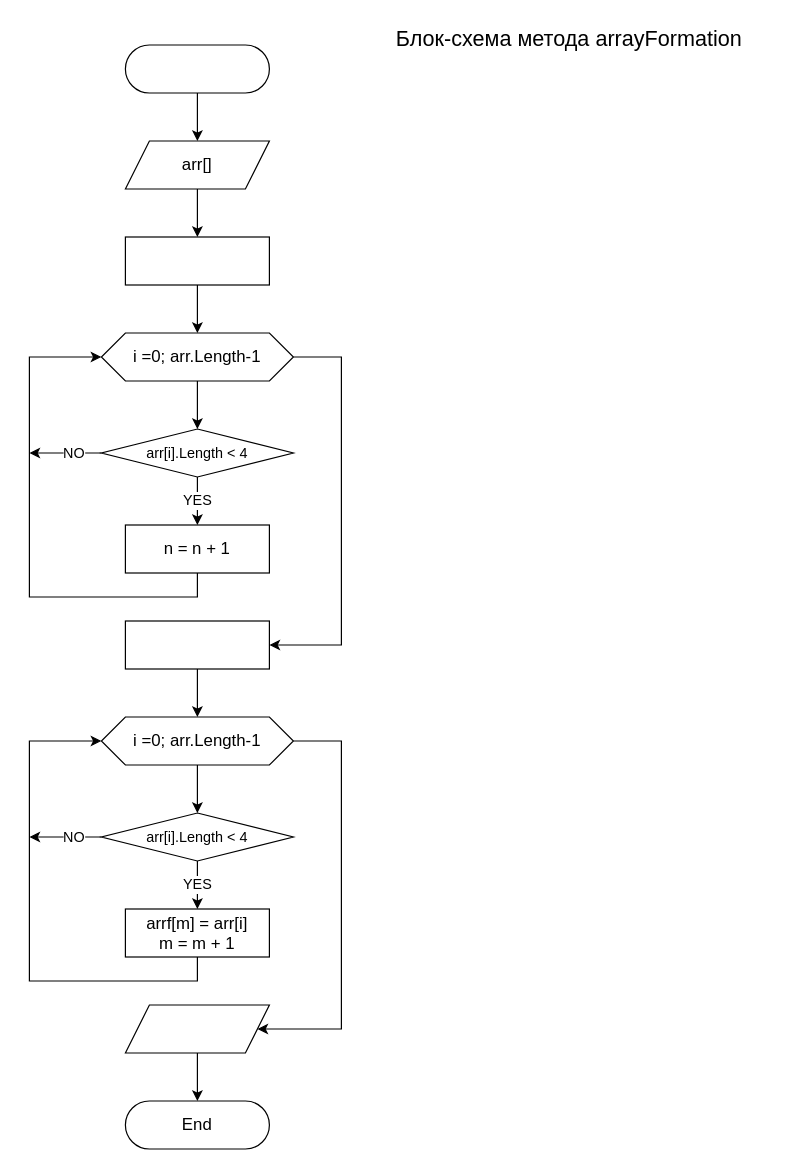
Some shapes in this 794 by 1170 pixel diagram are drawn without their labels. Here are the shapes that lost their labels. From the top down, the centre of each, then its label:
[196,68]: Begin
[196,260]: n = 0
[196,644]: arrf[n] m = 0
[196,1028]: arrf
